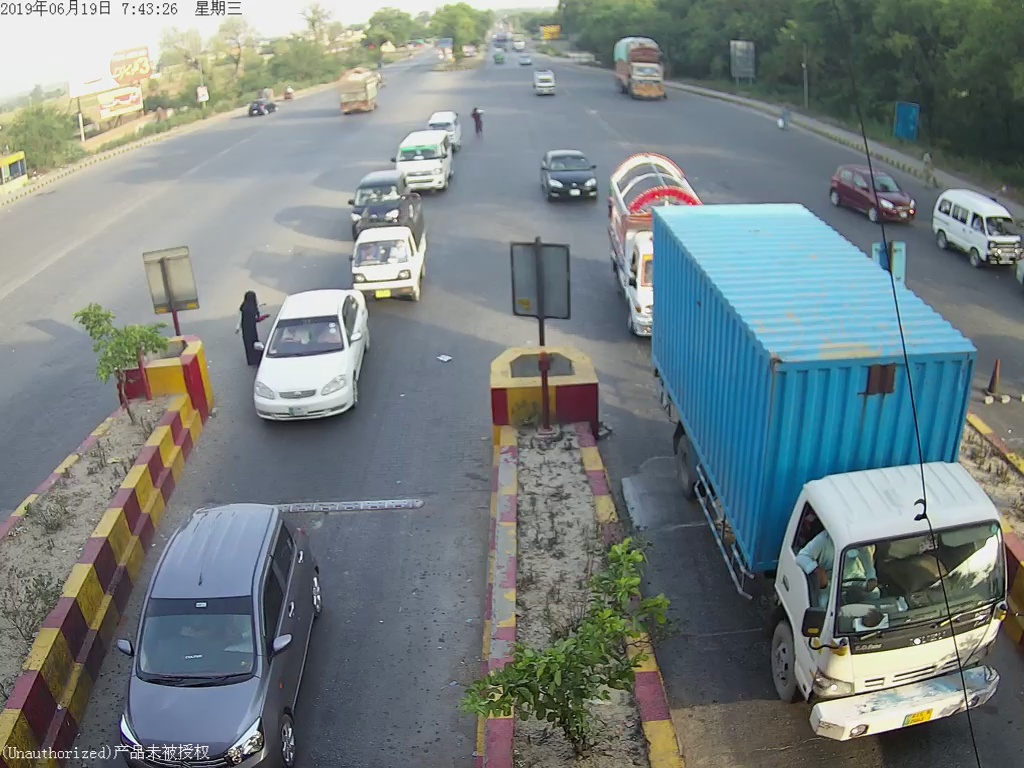Cat-1: (263, 290, 363, 425), (351, 207, 436, 310), (546, 142, 597, 202)
Cat-2: (656, 208, 1012, 747)
